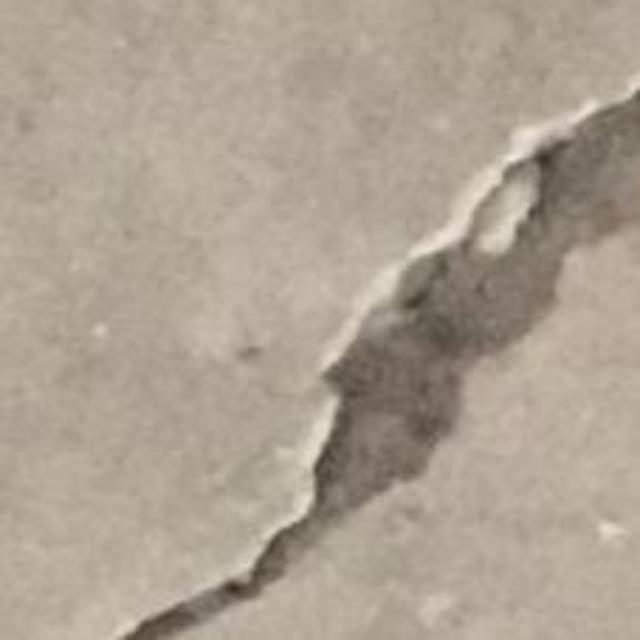crack: (122, 96, 639, 639)
